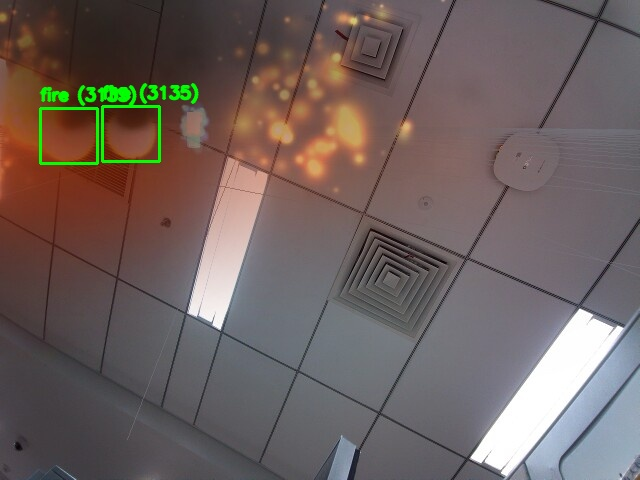fire: (102, 106, 159, 161), (40, 108, 97, 163)
